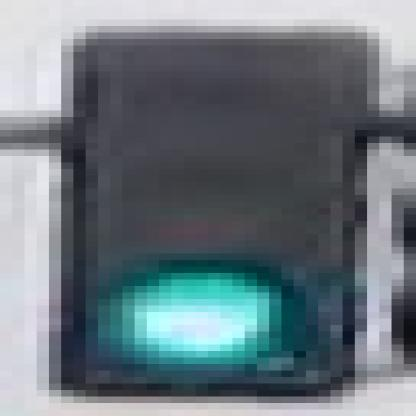Green Light: (77, 32, 351, 389)
